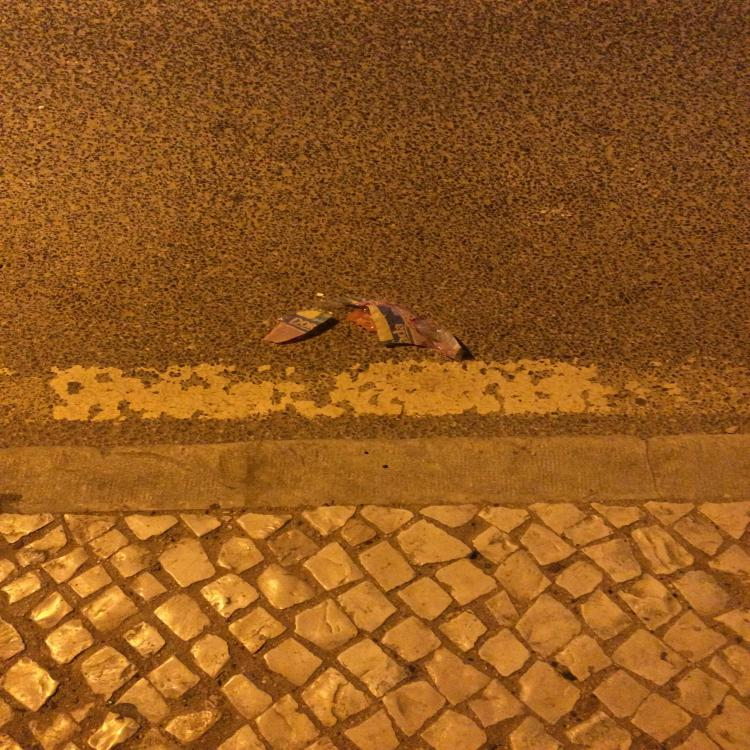Plastic film: (260, 297, 476, 362)
